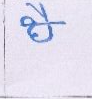ai_matra: (25, 2, 52, 22)
